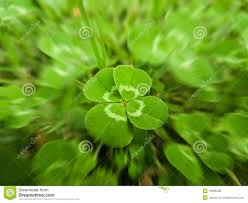4-clover: (82, 63, 171, 151)
